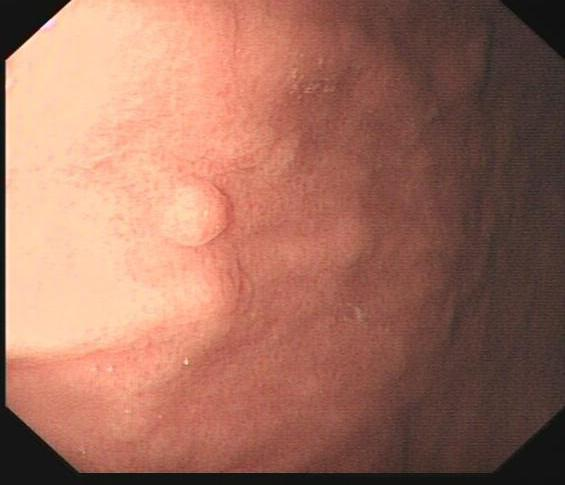Polyp: (157, 174, 236, 253)
